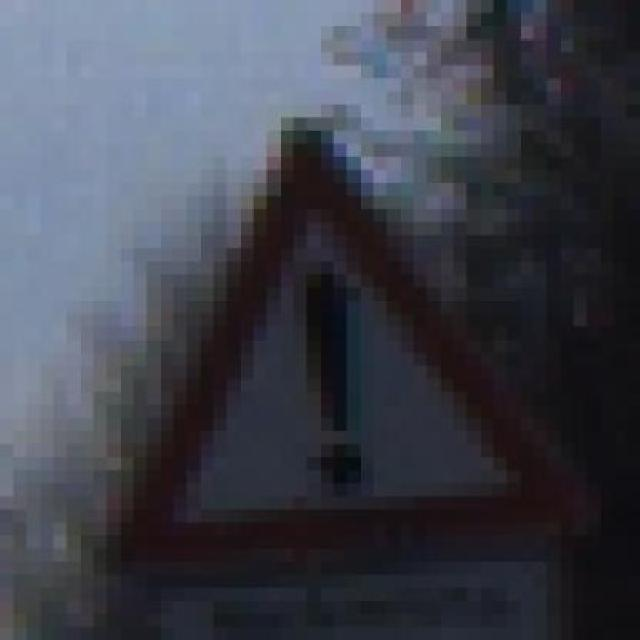Attention Please-: (67, 78, 587, 600)
